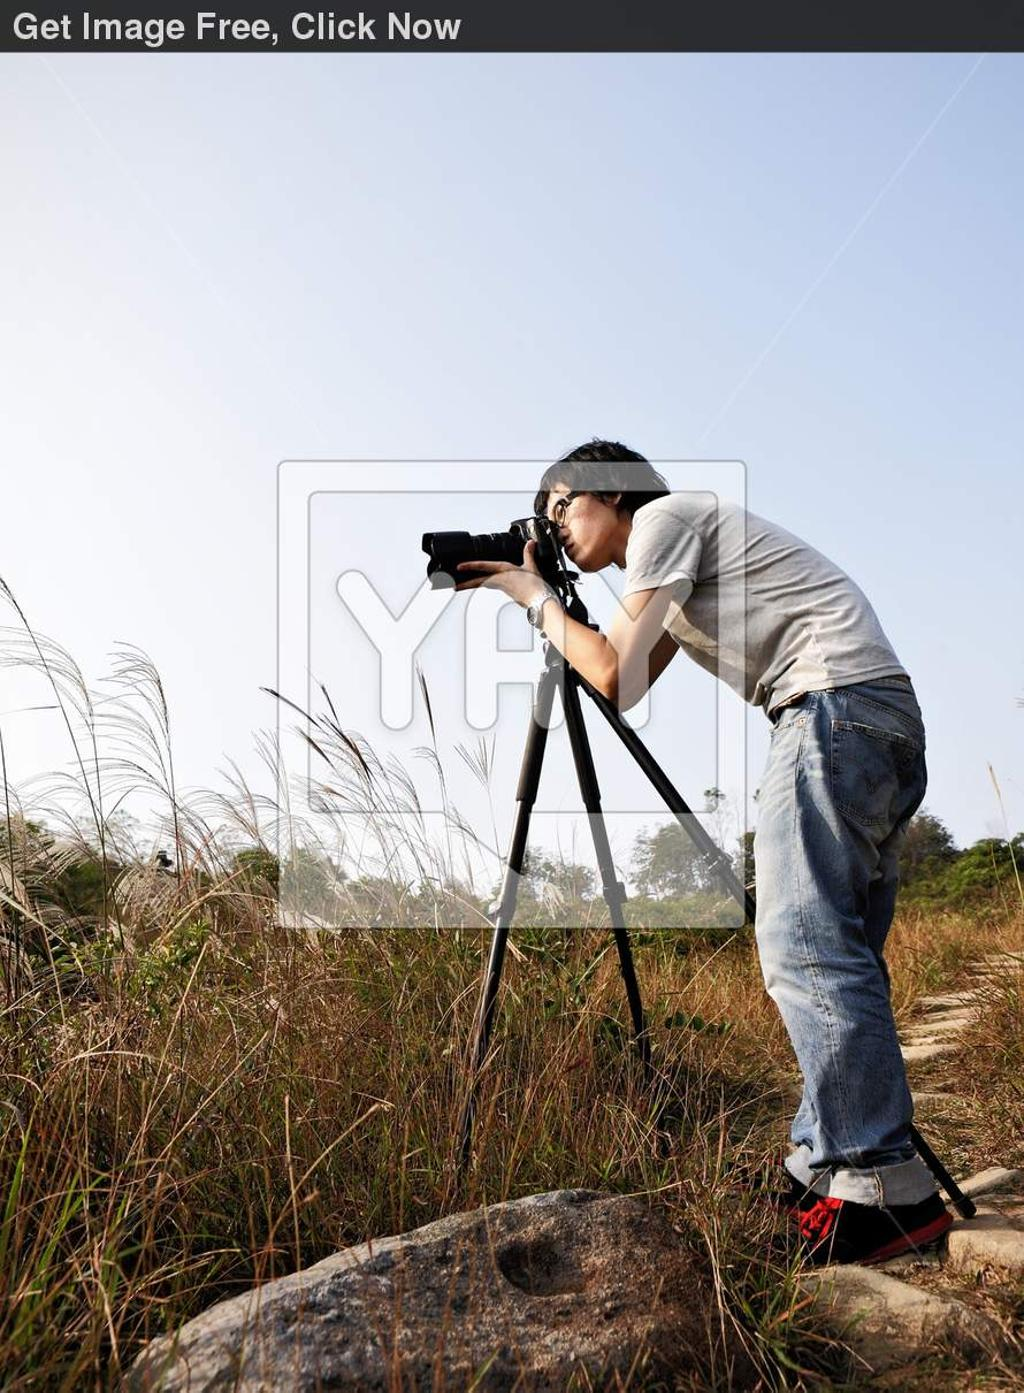face: (538, 473, 614, 573)
